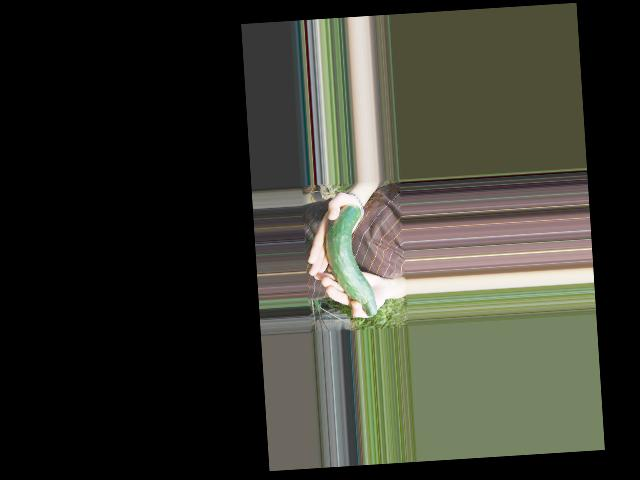cucumber: (323, 203, 377, 318)
